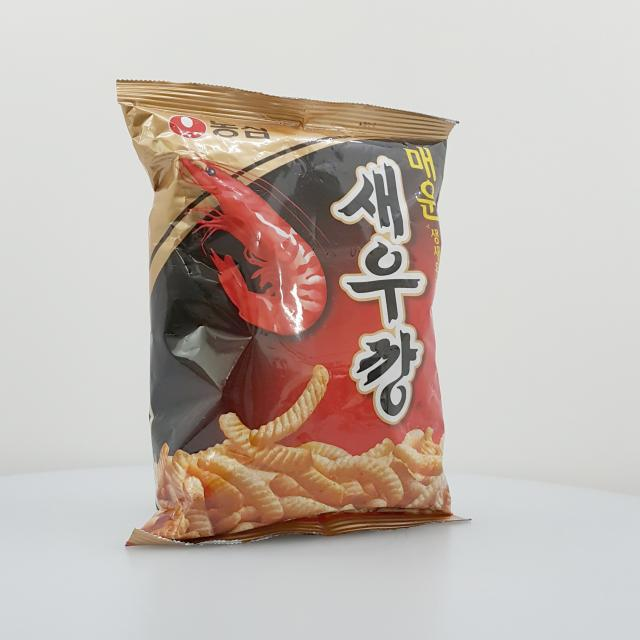-90G: (117, 80, 473, 548)
